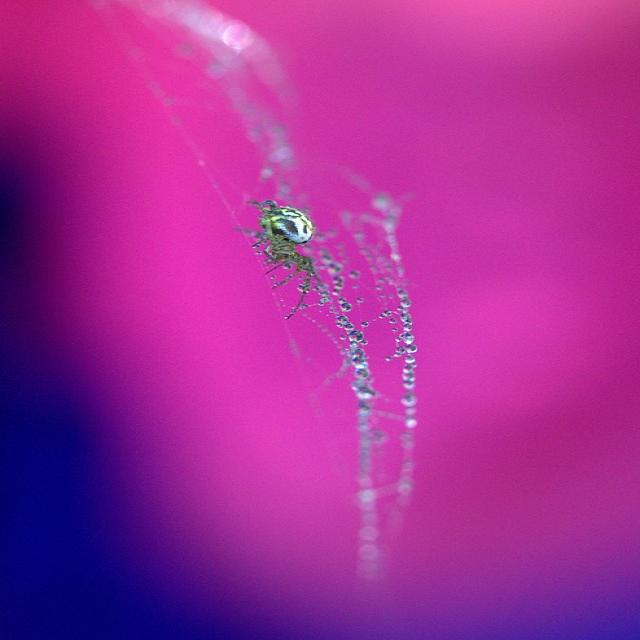spyder: (251, 200, 332, 317)
